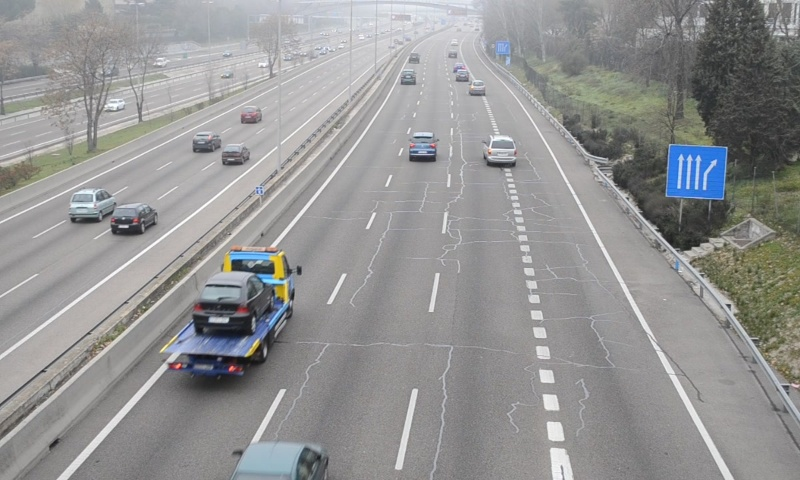car: (486, 134, 517, 166), (408, 130, 436, 159), (468, 78, 487, 95), (400, 68, 415, 84)
small-truck: (158, 245, 296, 372)
